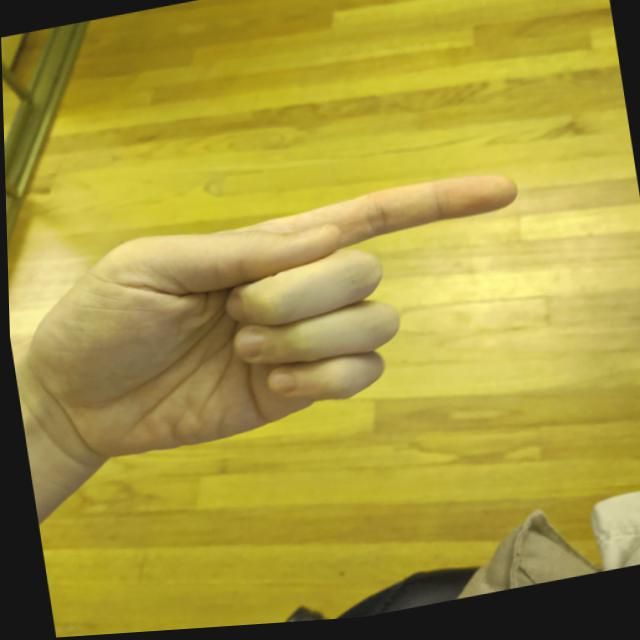G: (6, 162, 553, 481)
